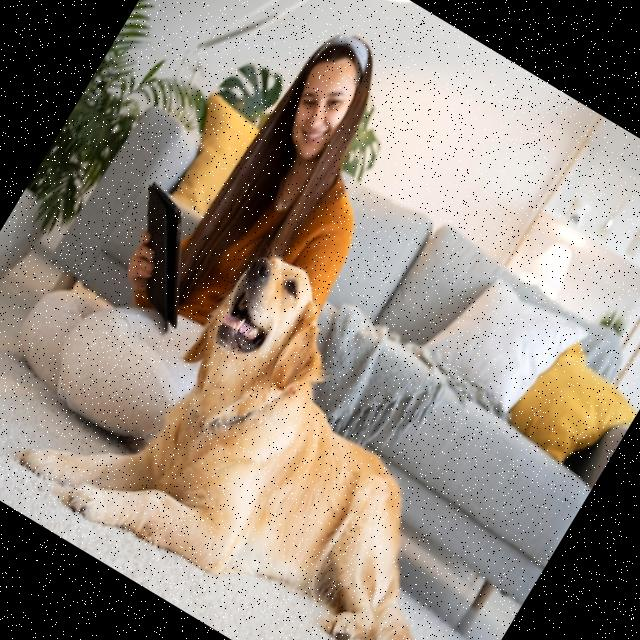Dog: (10, 194, 583, 640)
Person: (0, 0, 449, 493)
